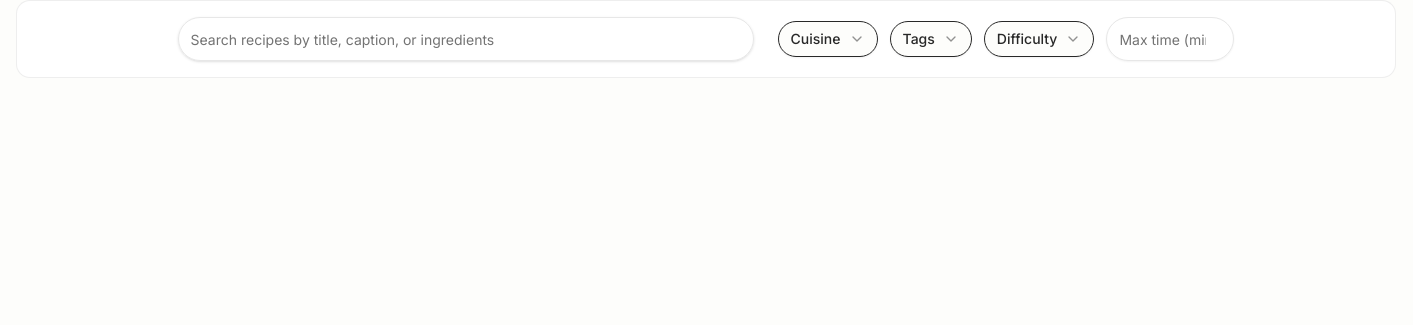
FilterBar › tags filter › should display count of selected tags
Click the button with test id "tags-filter-trigger". click: (931, 39)
box: [890, 21, 972, 57]
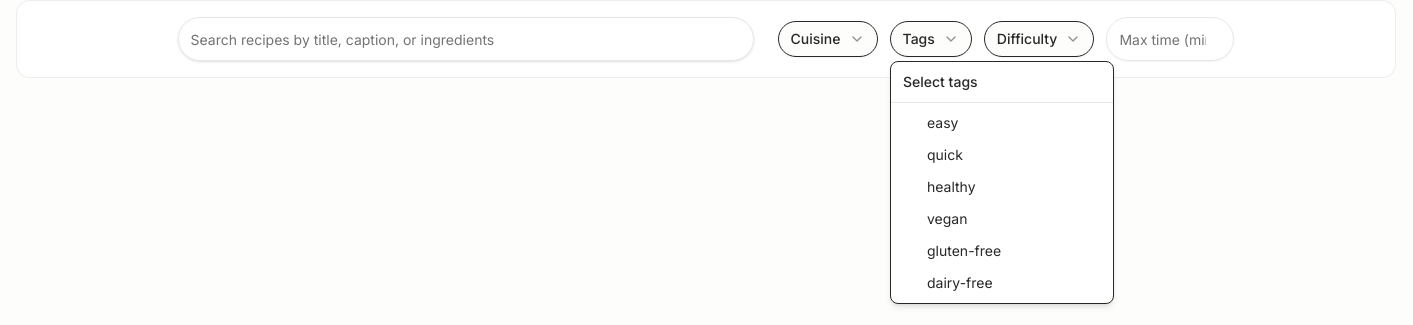
Click the menu item with test id "tag-option-easy". click: (943, 122)
box: [927, 114, 958, 131]
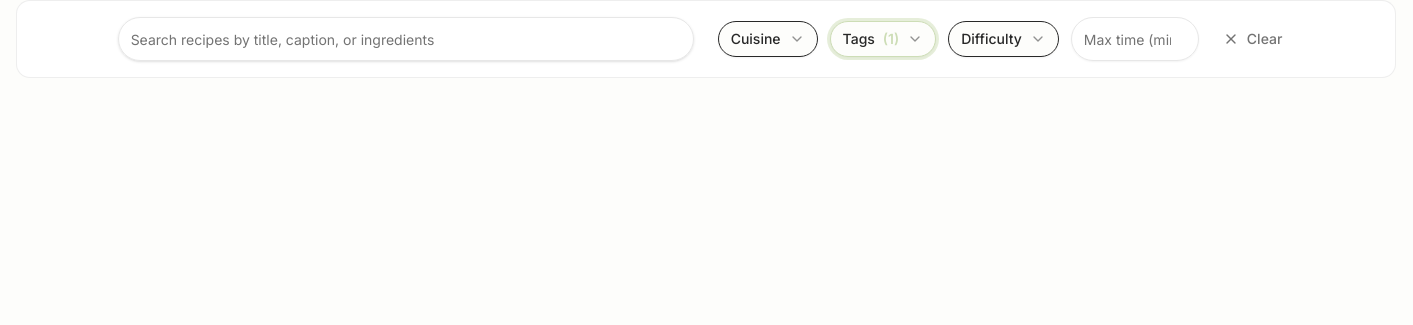
Check: the button with test id "tags-filter-trigger" shows "(1)", box [830, 21, 936, 57]
